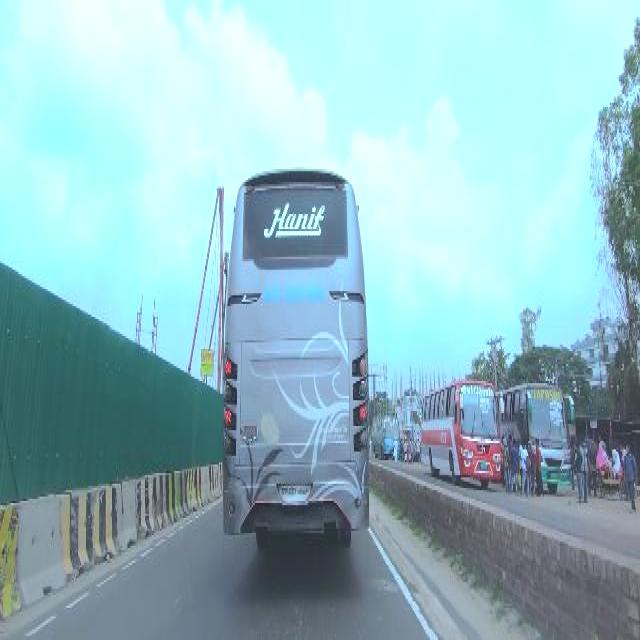BUS: (213, 158, 369, 568), (420, 379, 504, 490), (499, 385, 574, 489)
